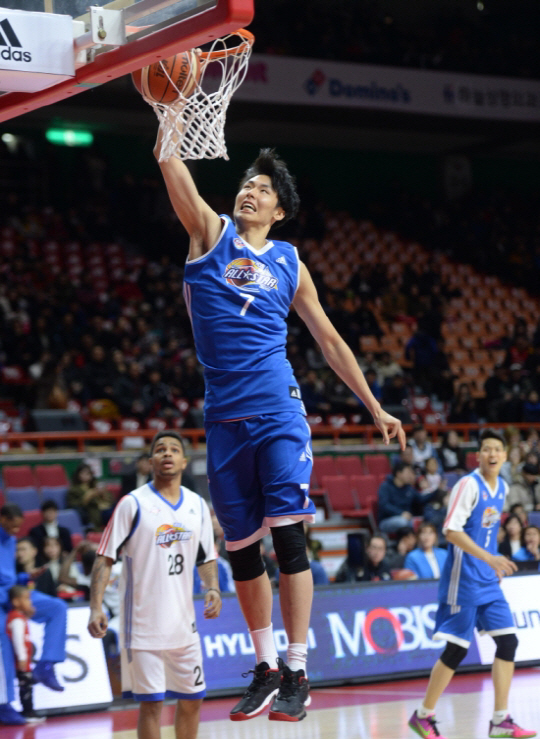dunk: (121, 7, 374, 729)
stand: (77, 420, 229, 739), (423, 422, 534, 739)
